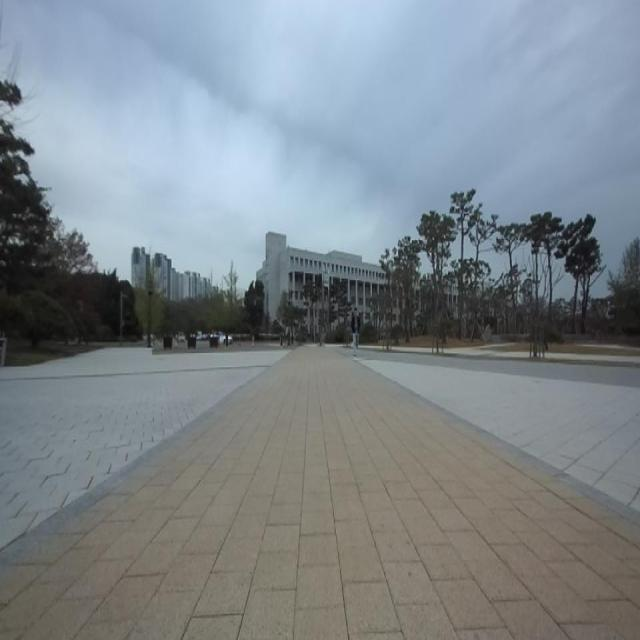sidewalk: (0, 346, 640, 639)
